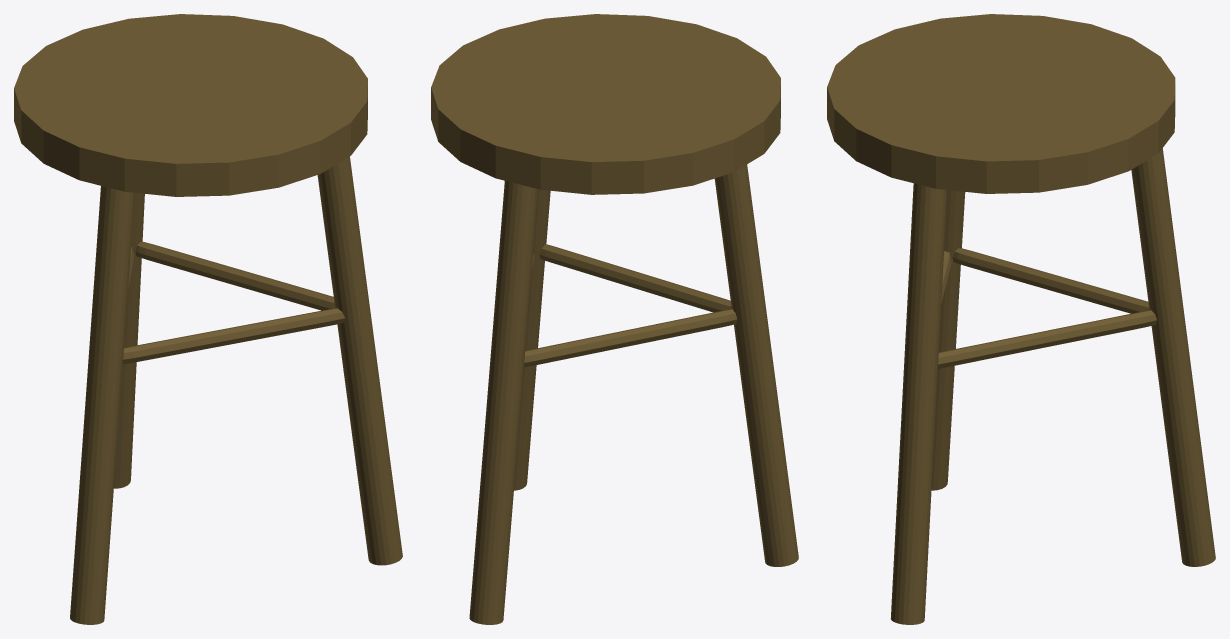
File: scaun bucatarie.fbx
3 renders of one model, left to right at view 1: azimuth 30°, elevation 25°; view 2: azimuth 150°, elevation 25°; view 3: azimuth 270°, elevation 25°, orthographic.
Parts seen in each view (by area): view 1: Cylinder.008; view 2: Cylinder.008; view 3: Cylinder.008.
Part boxes in pixels (bbox=[...]): Cylinder.008: bbox=[14, 14, 402, 624]; Cylinder.008: bbox=[431, 14, 798, 624]; Cylinder.008: bbox=[827, 14, 1215, 624].
Bounding box in the file's own units: 48.36 × 68.75 × 52.27.
